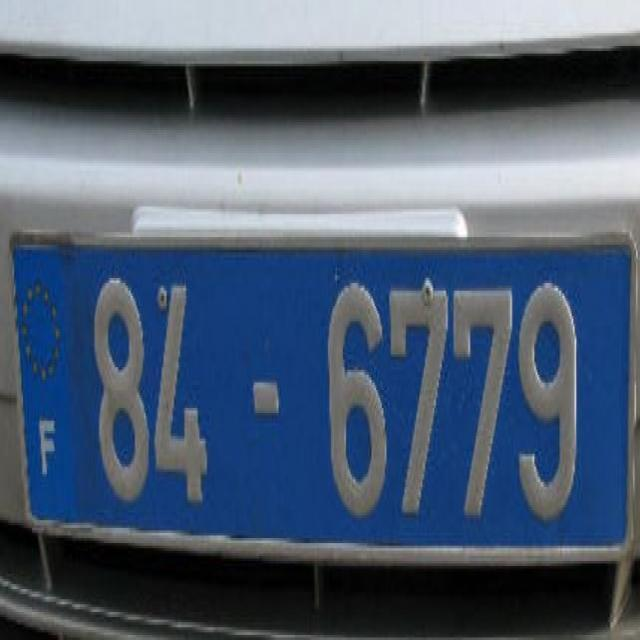licenseplate: (4, 172, 640, 604)
